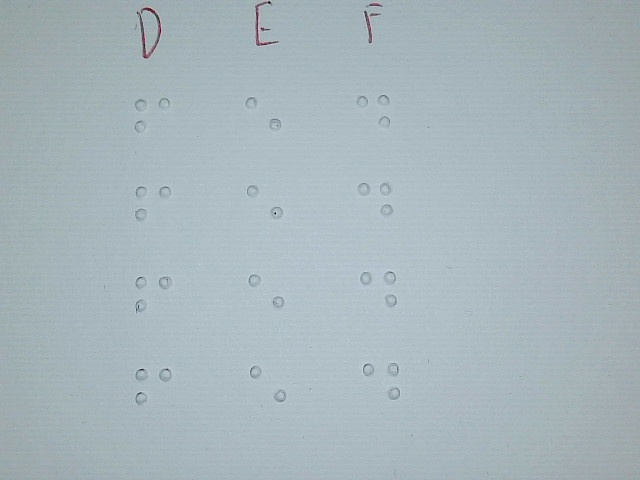D: (354, 83, 392, 148), (356, 170, 394, 235), (359, 261, 397, 326), (362, 351, 400, 416)
E: (244, 86, 282, 151), (246, 175, 284, 240), (247, 262, 285, 327), (249, 354, 287, 419)
F: (134, 88, 172, 153), (134, 175, 172, 240), (134, 266, 172, 331), (134, 356, 172, 421)
